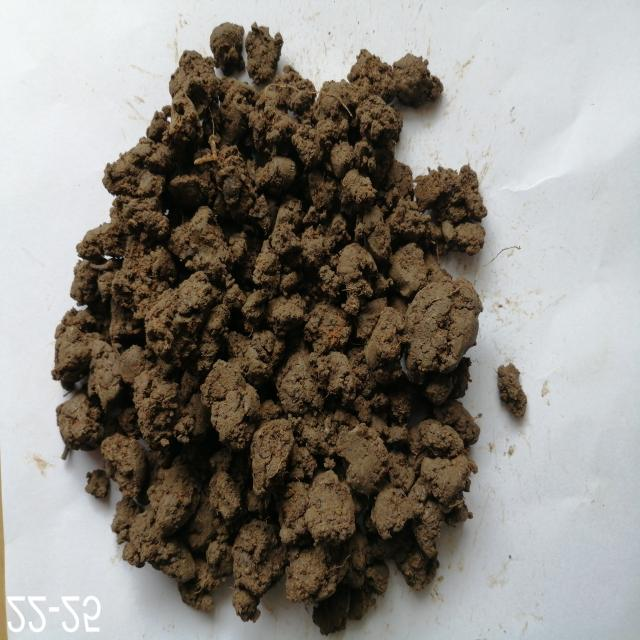soil: (134, 179, 412, 551)
